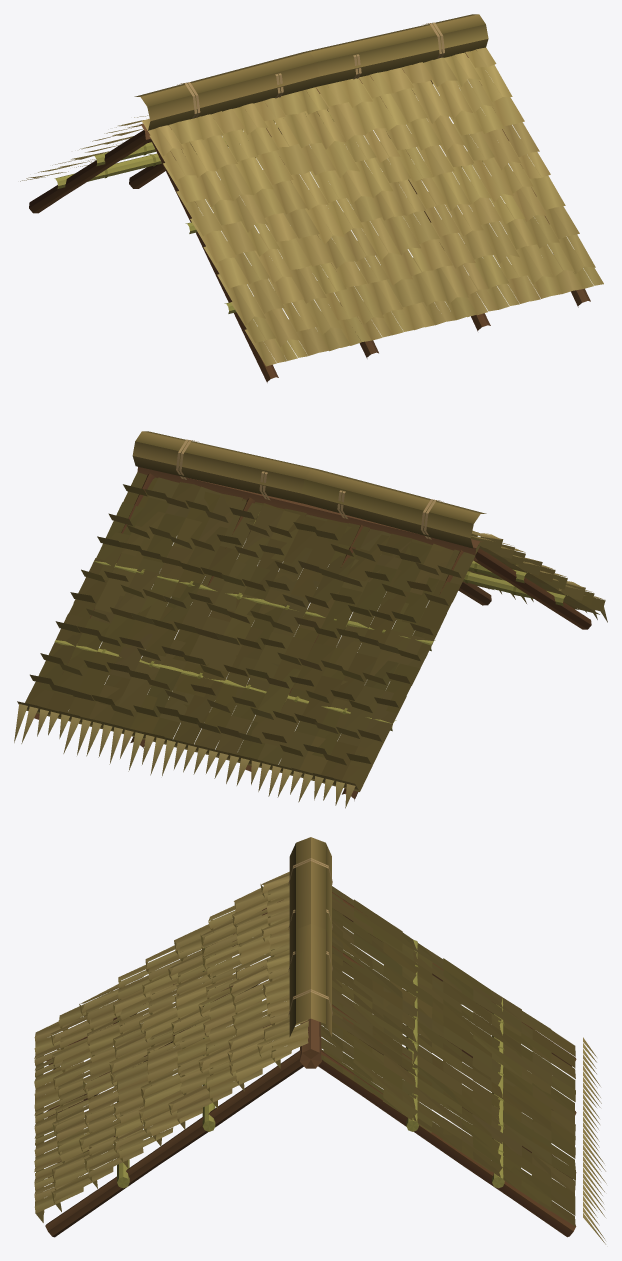
File: roof.glb
3 views of the same model, one above another, from view 1: azimuth 30°, elevation 25°; view 2: azimuth 150°, elevation 25°; view 3: azimuth 270°, elevation 25° (orthographic). The views are drawn at different scales.
Visible parts, largest first — view 1: b_roof_leafy, b_roof_solid; view 2: b_roof_leafy, b_roof_solid; view 3: b_roof_leafy, b_roof_solid.
Boxes of the visible parts, bbox=[...] form: b_roof_leafy: bbox=[20, 14, 603, 366]; b_roof_solid: bbox=[29, 54, 590, 382]; b_roof_leafy: bbox=[14, 431, 607, 808]; b_roof_solid: bbox=[34, 467, 591, 800]; b_roof_leafy: bbox=[34, 837, 606, 1244]; b_roof_solid: bbox=[45, 892, 576, 1237].
Bounding box in the file's own units: 3.05 × 1.85 × 4.21.
